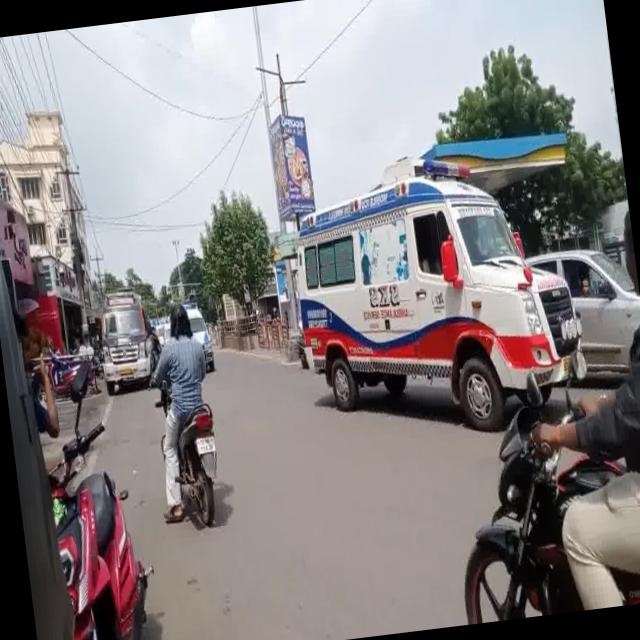ambulance: (276, 150, 586, 400)
